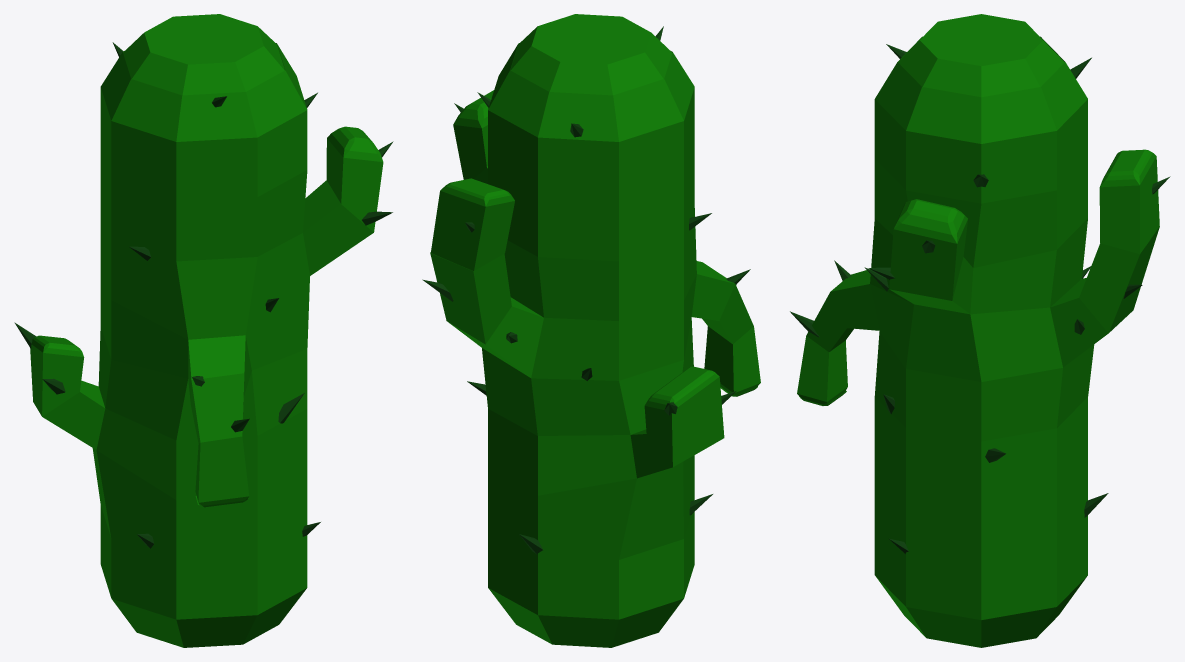
The model's file is cactus.fbx.
3 views of the same model, side by side, from view 1: azimuth 30°, elevation 25°; view 2: azimuth 150°, elevation 25°; view 3: azimuth 270°, elevation 25° (orthographic).
Parts seen in each view (by area): view 1: cactus, cactus.001; view 2: cactus, cactus.001; view 3: cactus, cactus.001.
Part boxes in pixels (x1,y1,x2,y2): cactus: (30, 14, 383, 647); cactus.001: (14, 42, 393, 548); cactus: (430, 14, 760, 647); cactus.001: (422, 26, 750, 554); cactus: (797, 14, 1159, 647); cactus.001: (790, 44, 1170, 553).
Size of the model in its own units: 220 by 381 by 229.
